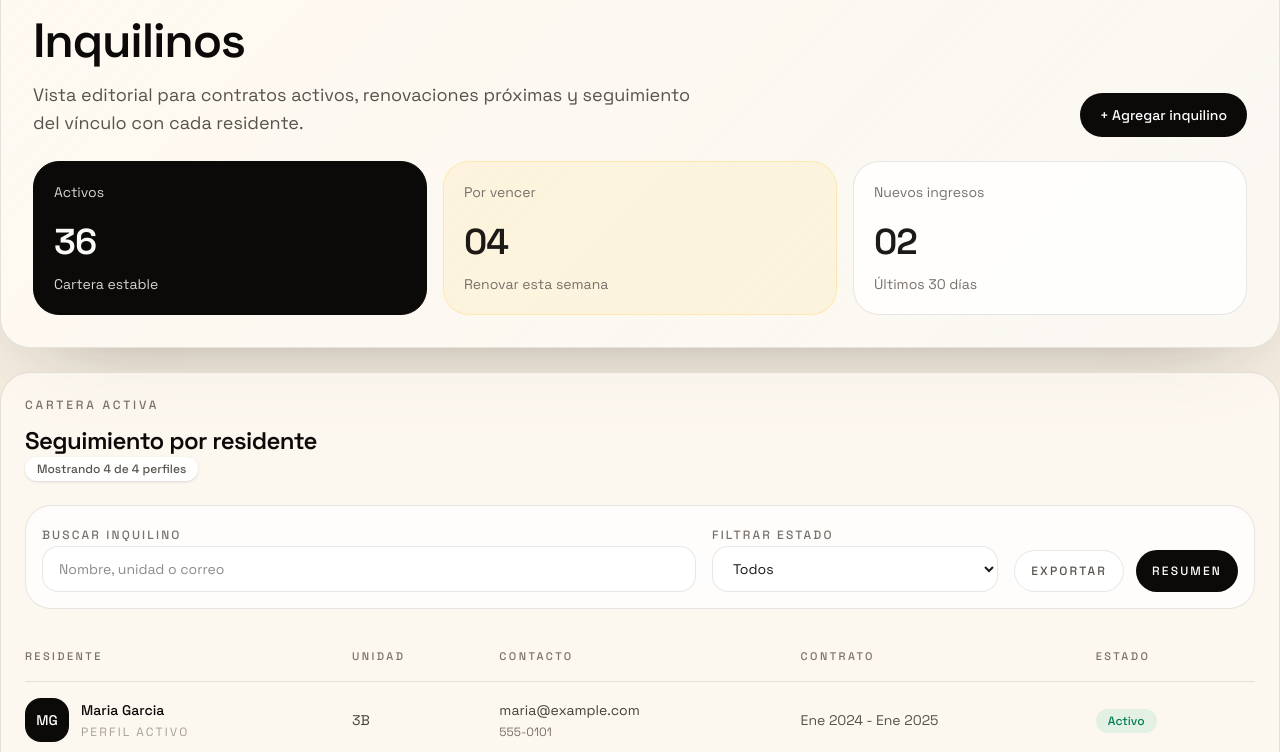
Management page states › shows an empty state when no tenant matches the filters
Type "ZZZ" into the search field labelled "Buscar inquilino" at [369, 569], box [42,546,696,592]
Wait 220 ms
(page scrolled)
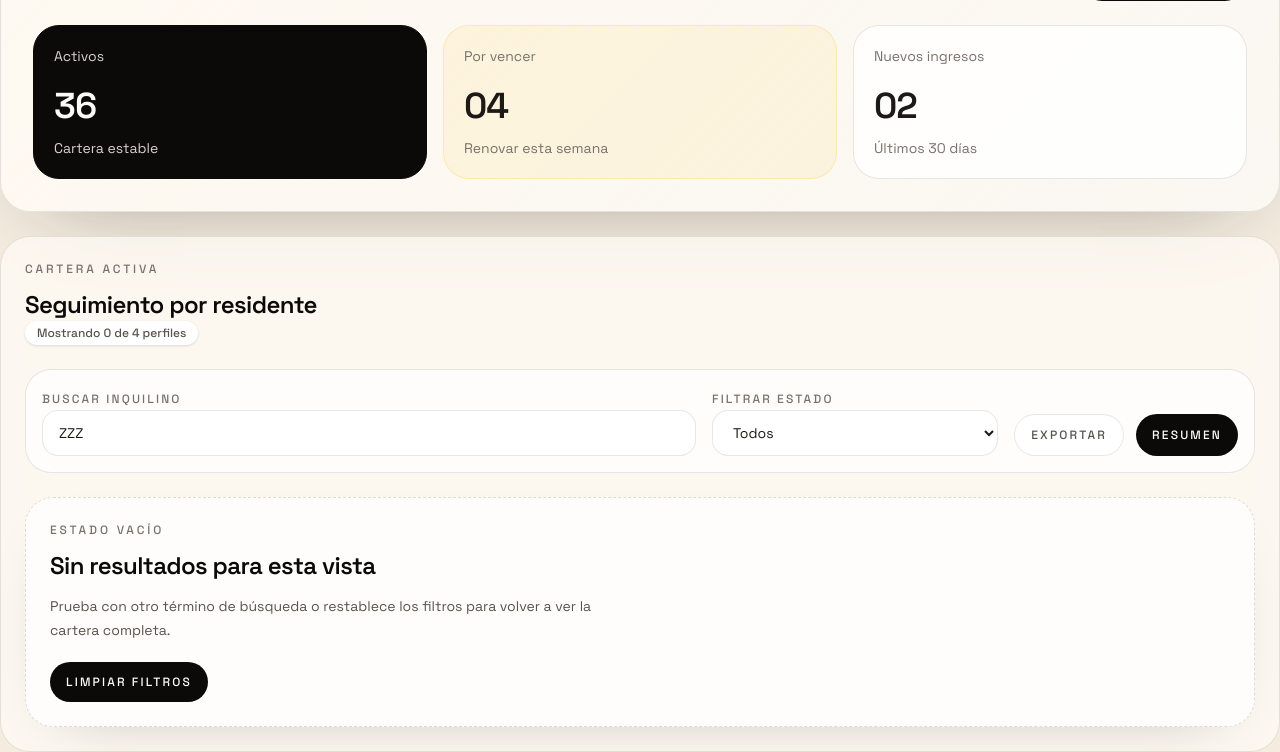
Expected: the heading "Sin resultados para esta vista" is shown, [50,550,376,581]
Expected: the button "Limpiar filtros" is shown, [50,662,208,702]
Expected: the text "Maria Garcia" is gone
